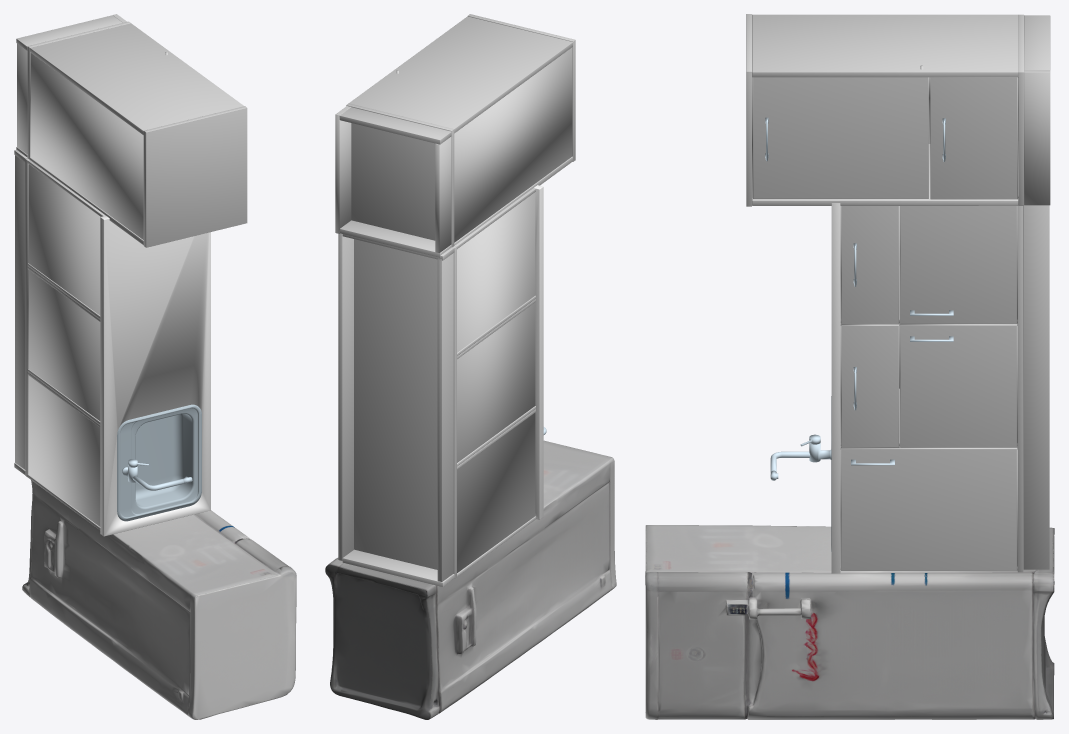
The model's file is inria_fridge_closed_and_full_kitchen_centered_apriltag.obj.
3 views of the same model, side by side, from view 1: azimuth 30°, elevation 25°; view 2: azimuth 150°, elevation 25°; view 3: azimuth 270°, elevation 25° (orthographic). The views are drawn at different scales.
Bounding box in the file's own units: 0.7545 × 3.19 × 1.8.
Materials: 927 (923 with a texture image).
